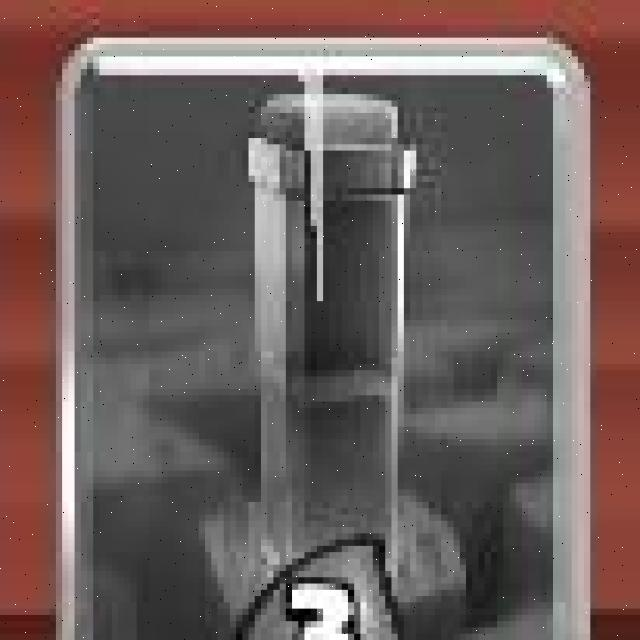Earthquake: (54, 25, 584, 640)
